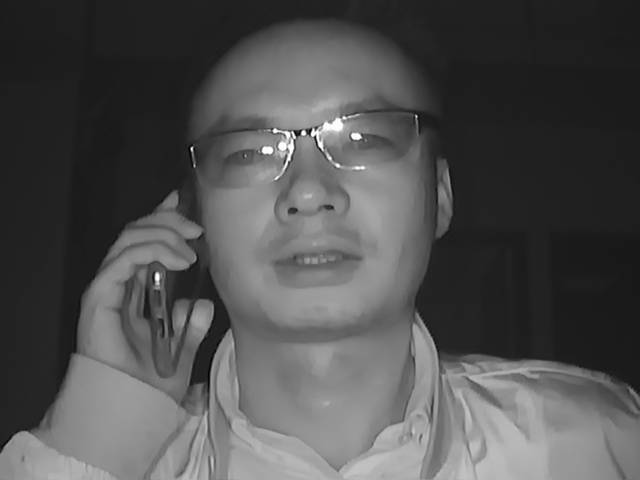hand: (74, 195, 215, 383)
